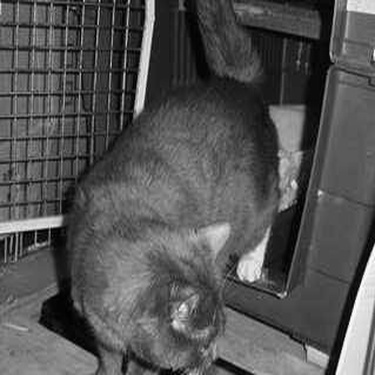cat: (60, 1, 291, 365)
